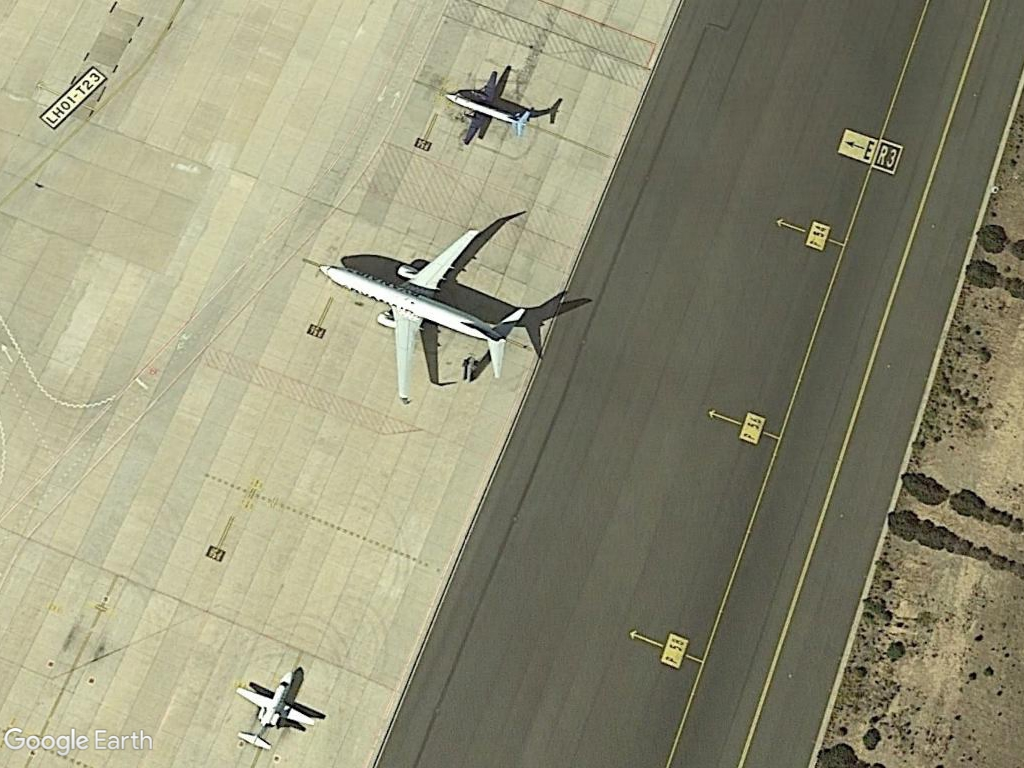airliner: (315, 213, 532, 409)
chartered: (225, 663, 324, 758)
propeller: (439, 70, 539, 148)
